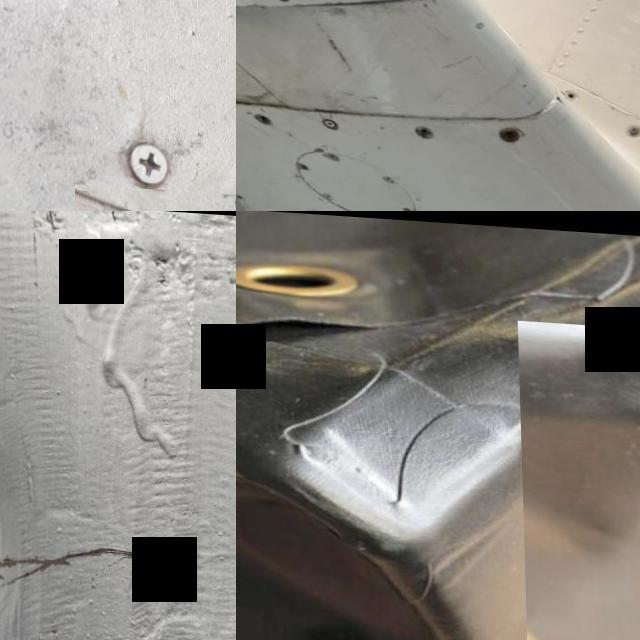Crack: (594, 87, 636, 113), (546, 91, 565, 100)
Dent: (524, 321, 640, 640)
Missing_Fastener: (495, 122, 521, 138), (407, 122, 433, 137), (252, 113, 272, 124), (564, 84, 577, 94)
